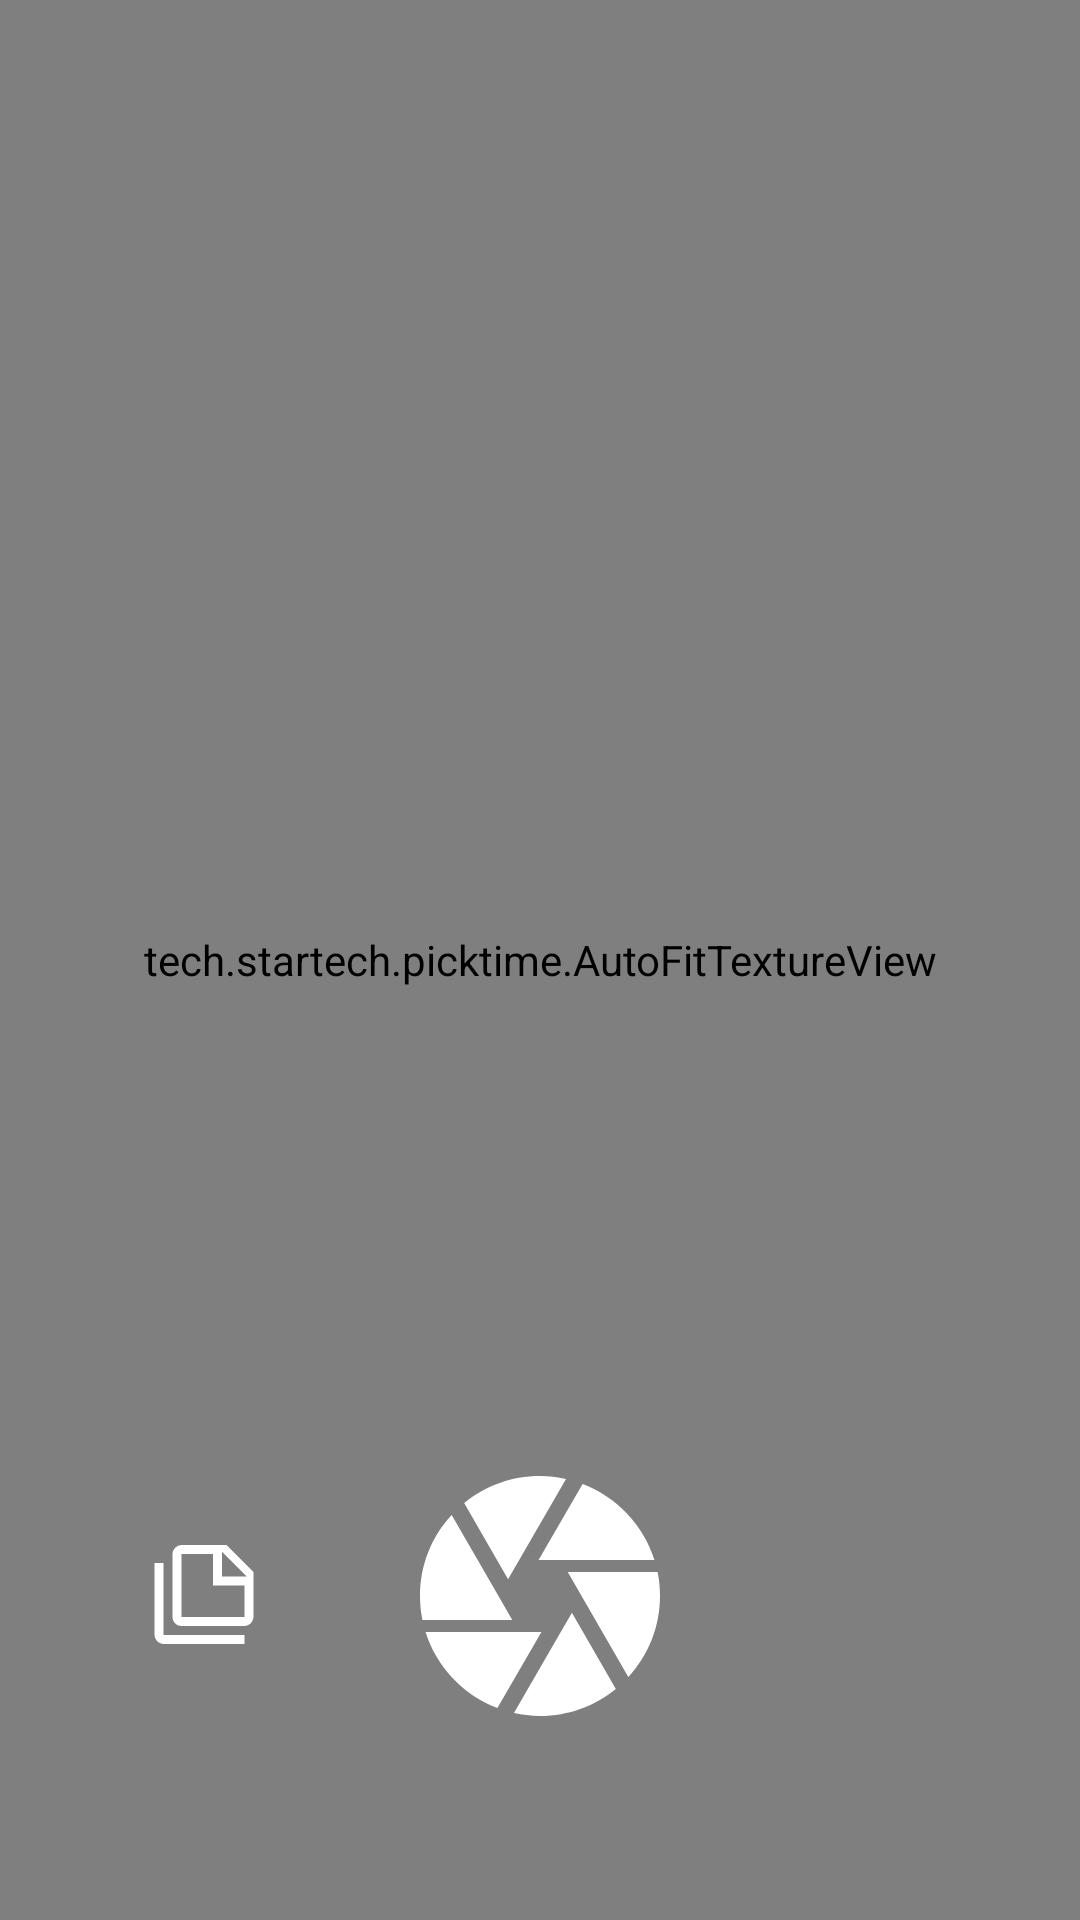

Icons on this 1080px×1920px Android screen, each with the point to tap as (x=x, y=y):
camera iris: (x=540, y=1596)
opengallery: (x=204, y=1594)
